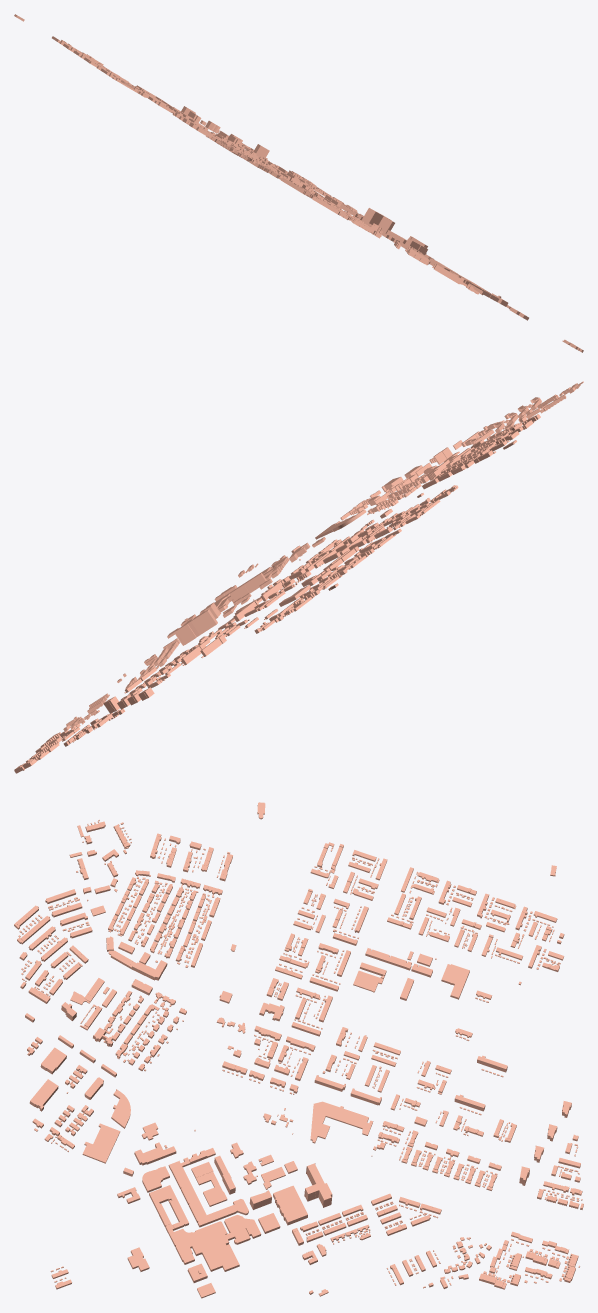
3 renders of one model, top to bottom at view 1: azimuth 30°, elevation 25°; view 2: azimuth 150°, elevation 25°; view 3: azimuth 270°, elevation 25°, orthographic. The views are drawn at different scales.
Size of the model in its own units: 971 by 762 by 1257.
